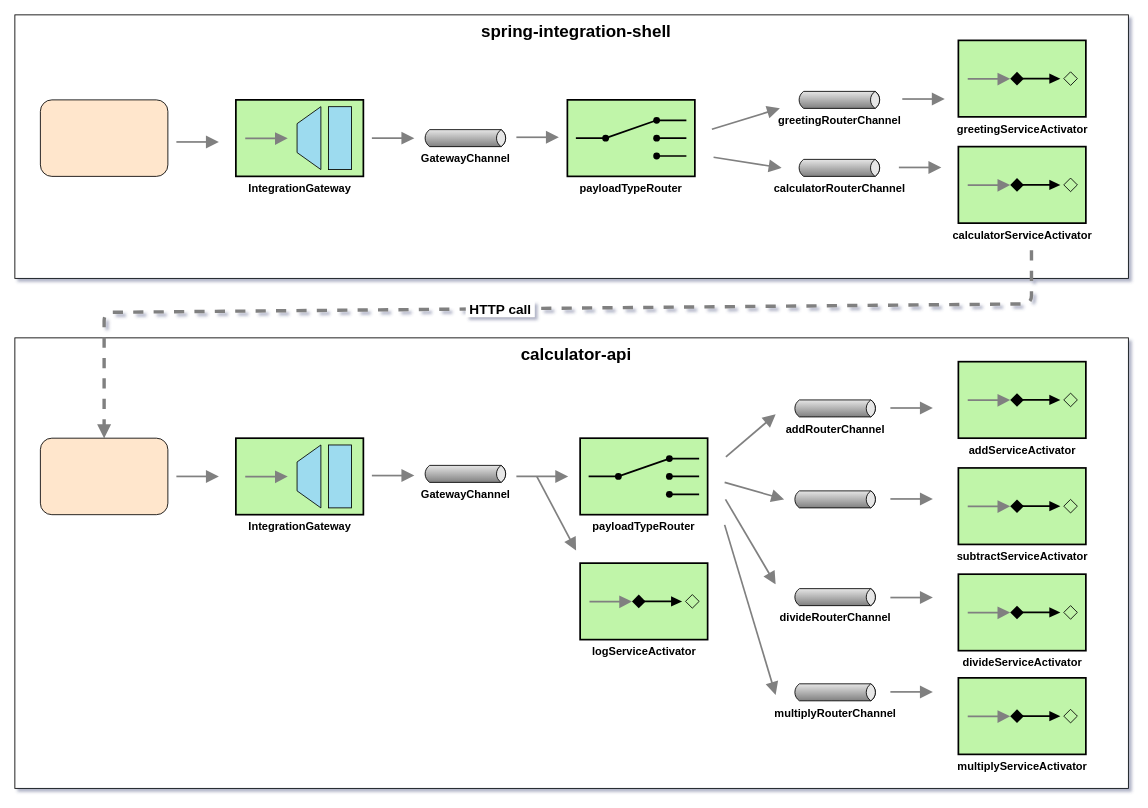
Some shapes in this 1148 by 808 pixel diagram are drawn without their labels. The shapes that lost their labels are listed below. From the top down, each one's centre as x and y in pixels, then its label:
At point 104,137: "SpringIntegration Commands".
At point 104,476: "Calculator Controller".
At point 835,499: "subtractRouterChannel".
